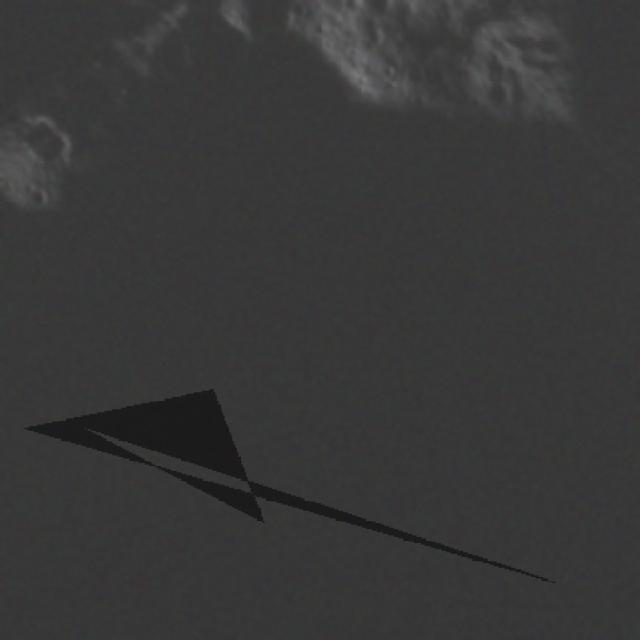crater: (478, 74, 518, 114), (23, 181, 55, 214), (358, 0, 398, 20), (379, 62, 399, 82)
